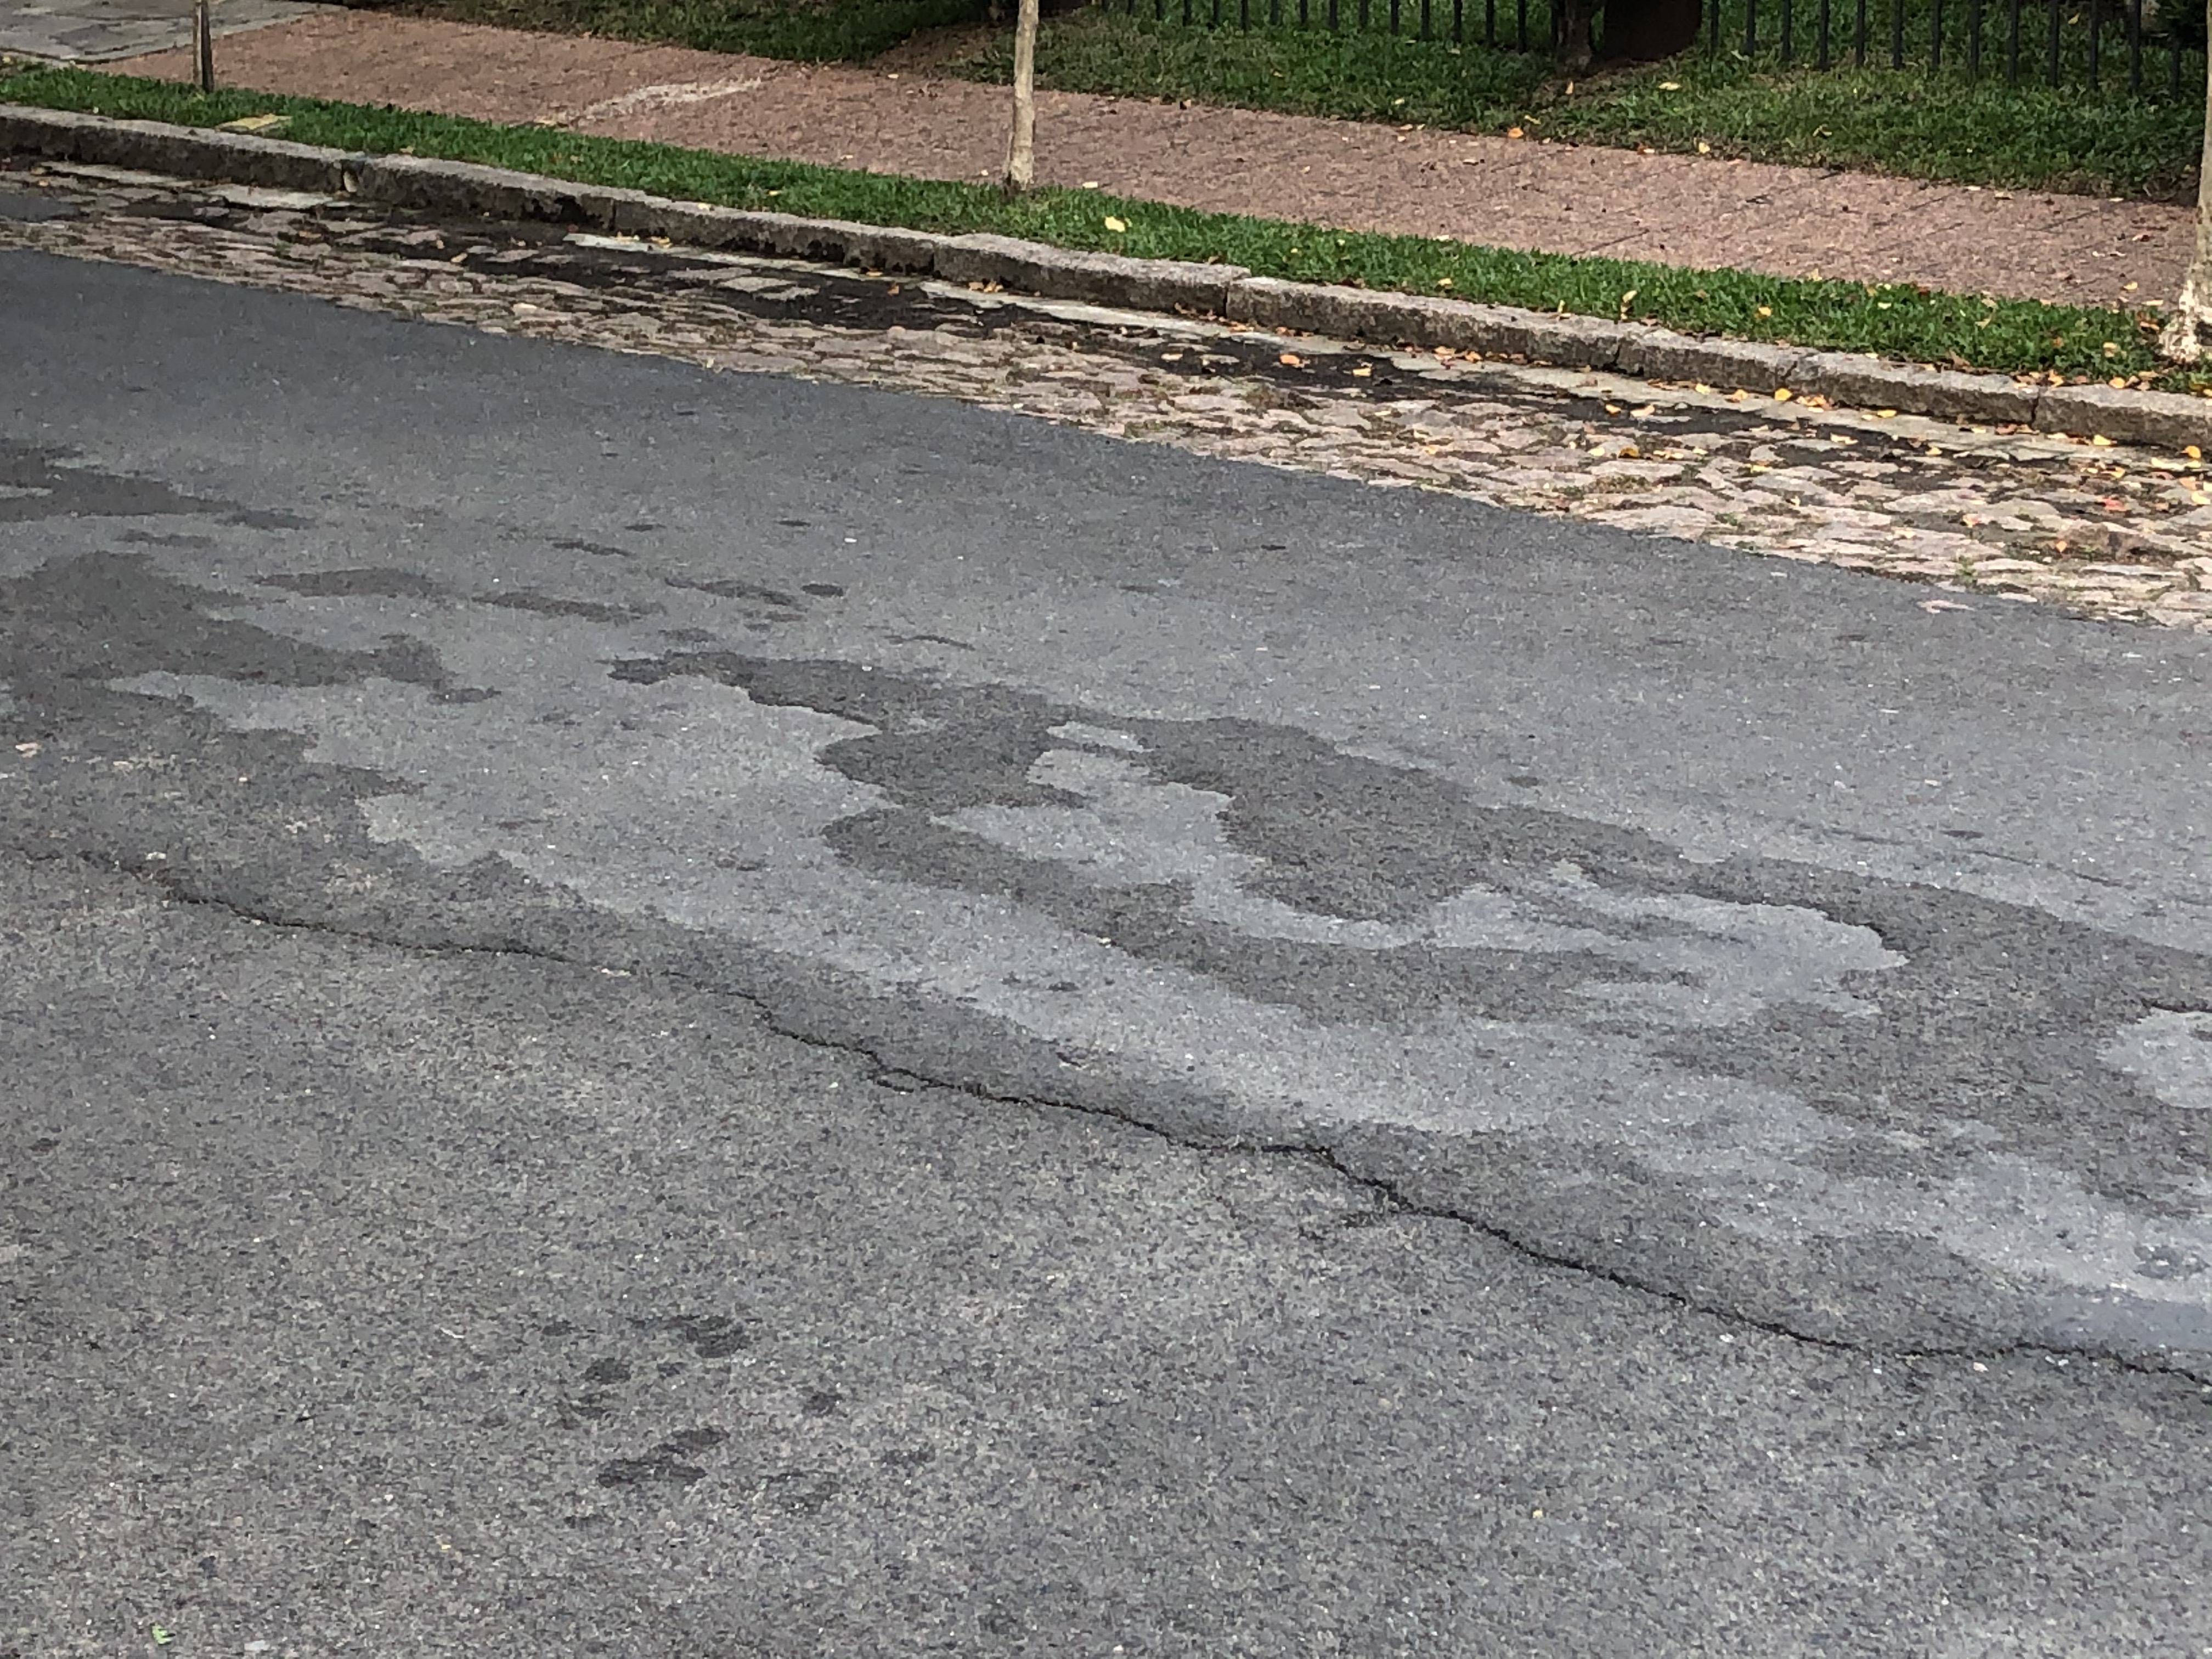vag84: (14, 5, 1898, 554)
